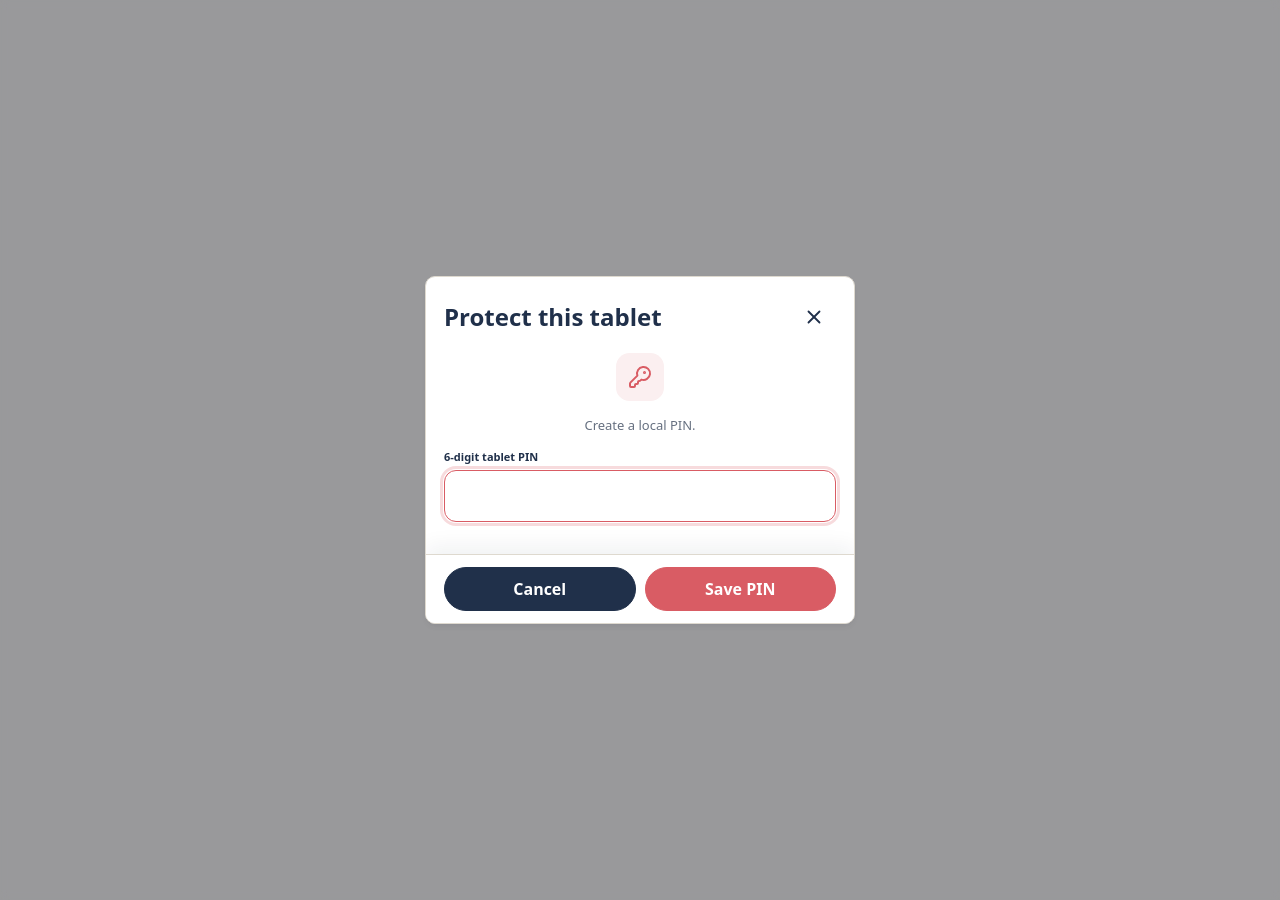
Scenario: EventPinDialog › shows a stable error when local verification fails unexpectedly
The image size is (1280, 900).
In the password field labelled "6-digit tablet PIN": (640, 496) x1=444 y1=470 x2=836 y2=522, type "123456"
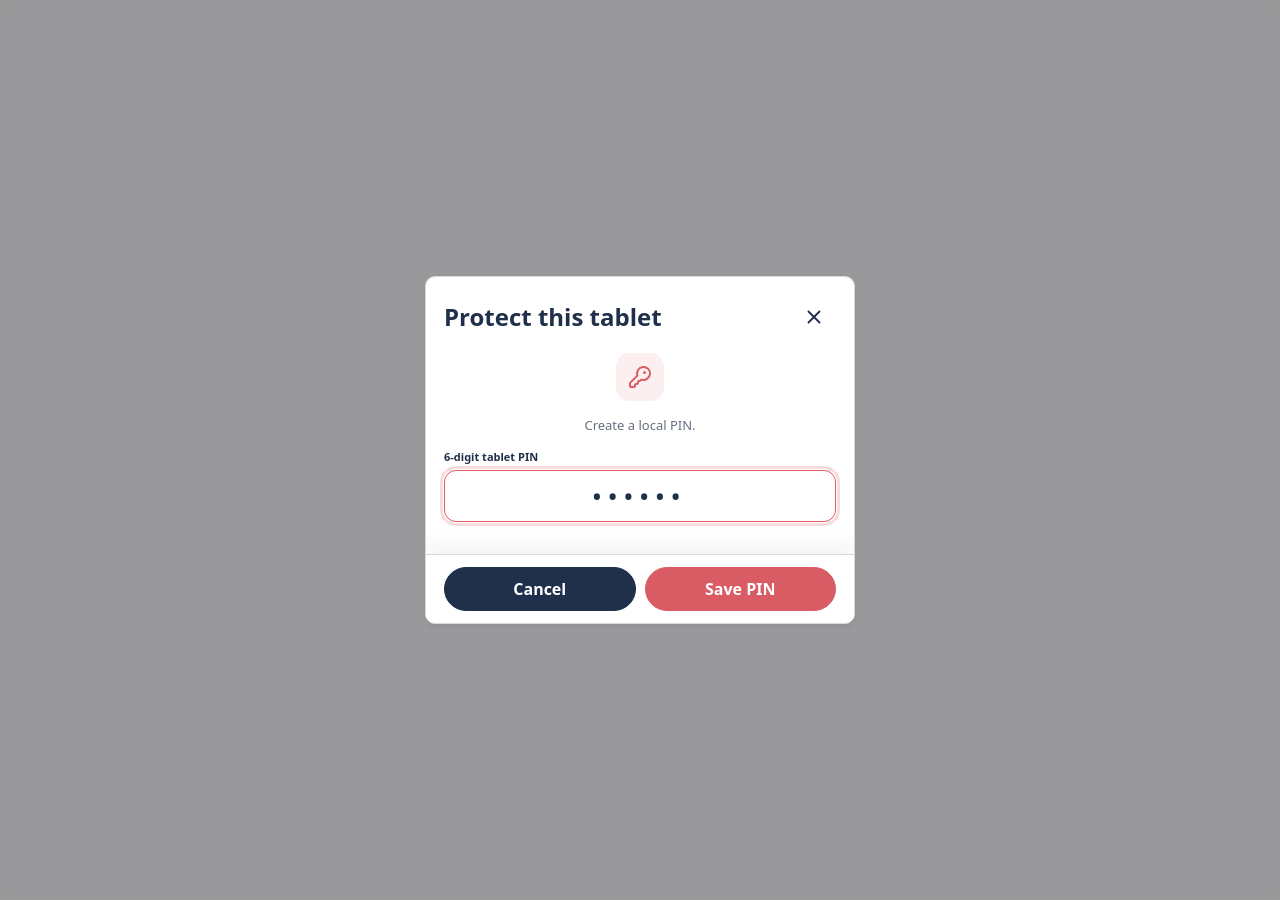
Click the button "Save PIN": click(740, 589) x1=644 y1=567 x2=836 y2=611
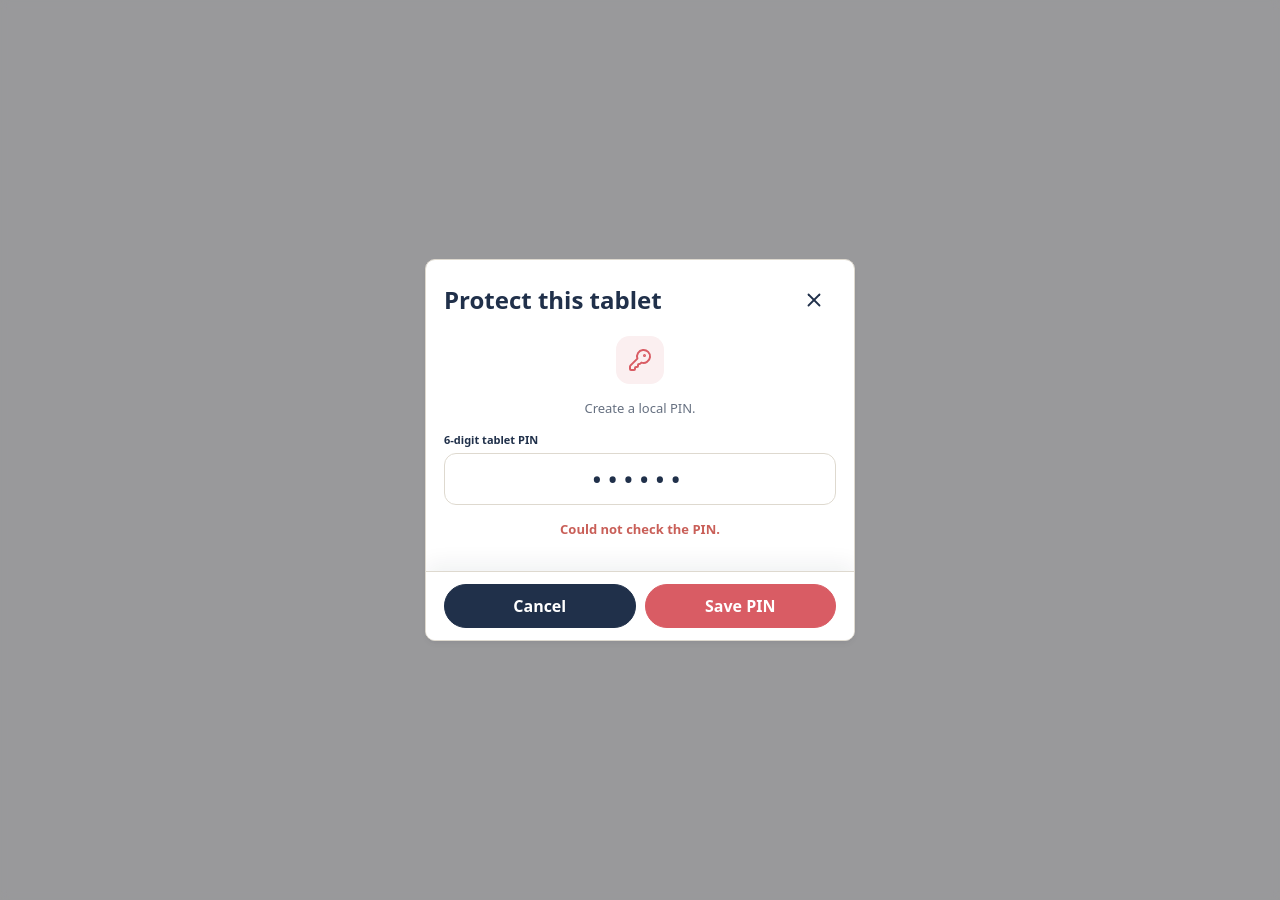
Check: the message reads "Could not check the PIN.", box x1=560 y1=520 x2=720 y2=538
